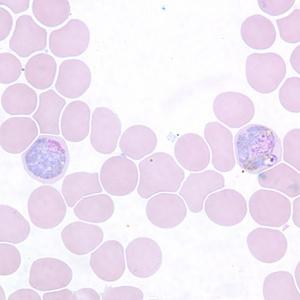Infected: (232, 123, 284, 174), (22, 135, 70, 184)
Uninfected: (136, 152, 186, 200), (178, 169, 224, 214), (245, 51, 287, 93), (203, 121, 237, 172), (27, 186, 67, 229), (8, 14, 48, 56), (249, 187, 291, 227), (48, 18, 90, 57), (205, 188, 247, 227), (88, 106, 120, 155), (55, 60, 93, 100), (213, 91, 255, 127), (257, 161, 300, 196), (0, 117, 39, 155), (146, 192, 187, 228), (126, 237, 162, 278), (246, 227, 288, 262), (62, 172, 104, 207), (101, 157, 139, 195), (62, 221, 104, 255), (91, 240, 125, 282), (29, 258, 73, 290), (175, 132, 211, 171), (58, 100, 90, 142), (1, 81, 38, 116), (119, 124, 156, 159), (73, 192, 114, 223), (242, 14, 275, 49), (25, 53, 57, 88), (0, 206, 29, 244), (263, 271, 300, 300), (32, 0, 71, 27), (279, 77, 300, 112), (0, 51, 22, 82)
